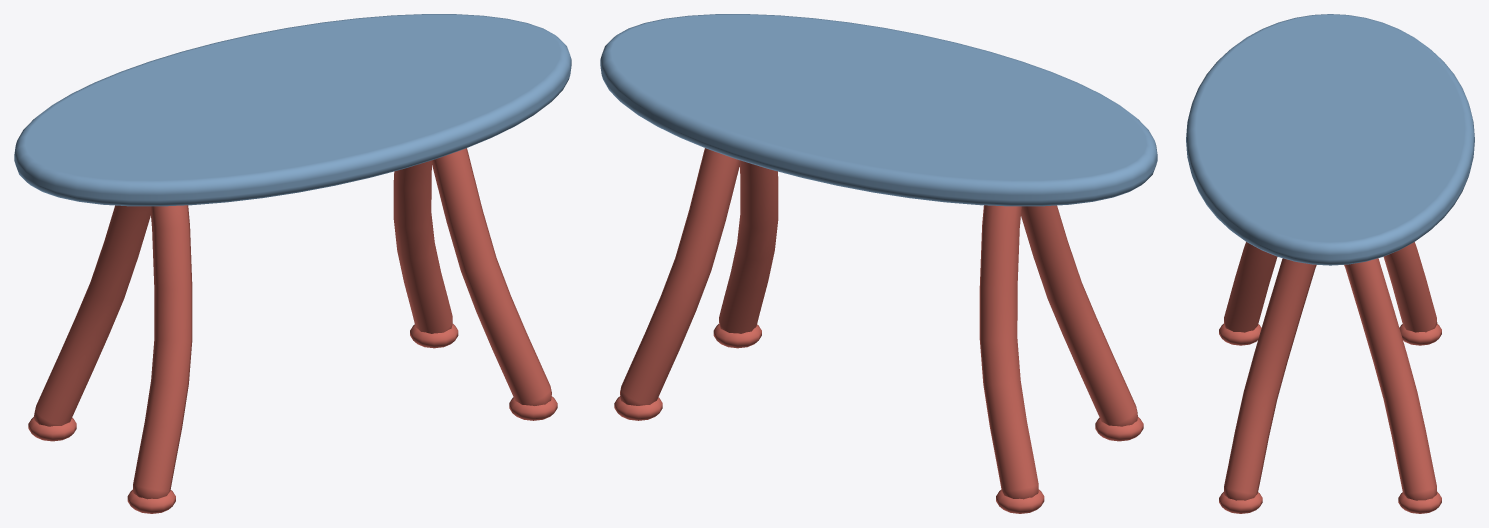
Rendered from oval_arch_table.glb.
3 renders of one model, left to right at view 1: azimuth 30°, elevation 25°; view 2: azimuth 150°, elevation 25°; view 3: azimuth 270°, elevation 25°, orthographic. The views are drawn at different scales.
Parts seen in each view (by area): view 1: oval_arch_table_mesh; view 2: oval_arch_table_mesh; view 3: oval_arch_table_mesh.
Part boxes in pixels (bbox=[...]): oval_arch_table_mesh: bbox=[14, 14, 571, 513]; oval_arch_table_mesh: bbox=[600, 14, 1157, 513]; oval_arch_table_mesh: bbox=[1186, 14, 1474, 513].
Size of the model in its own units: 1.12 by 0.6599 by 0.58.
